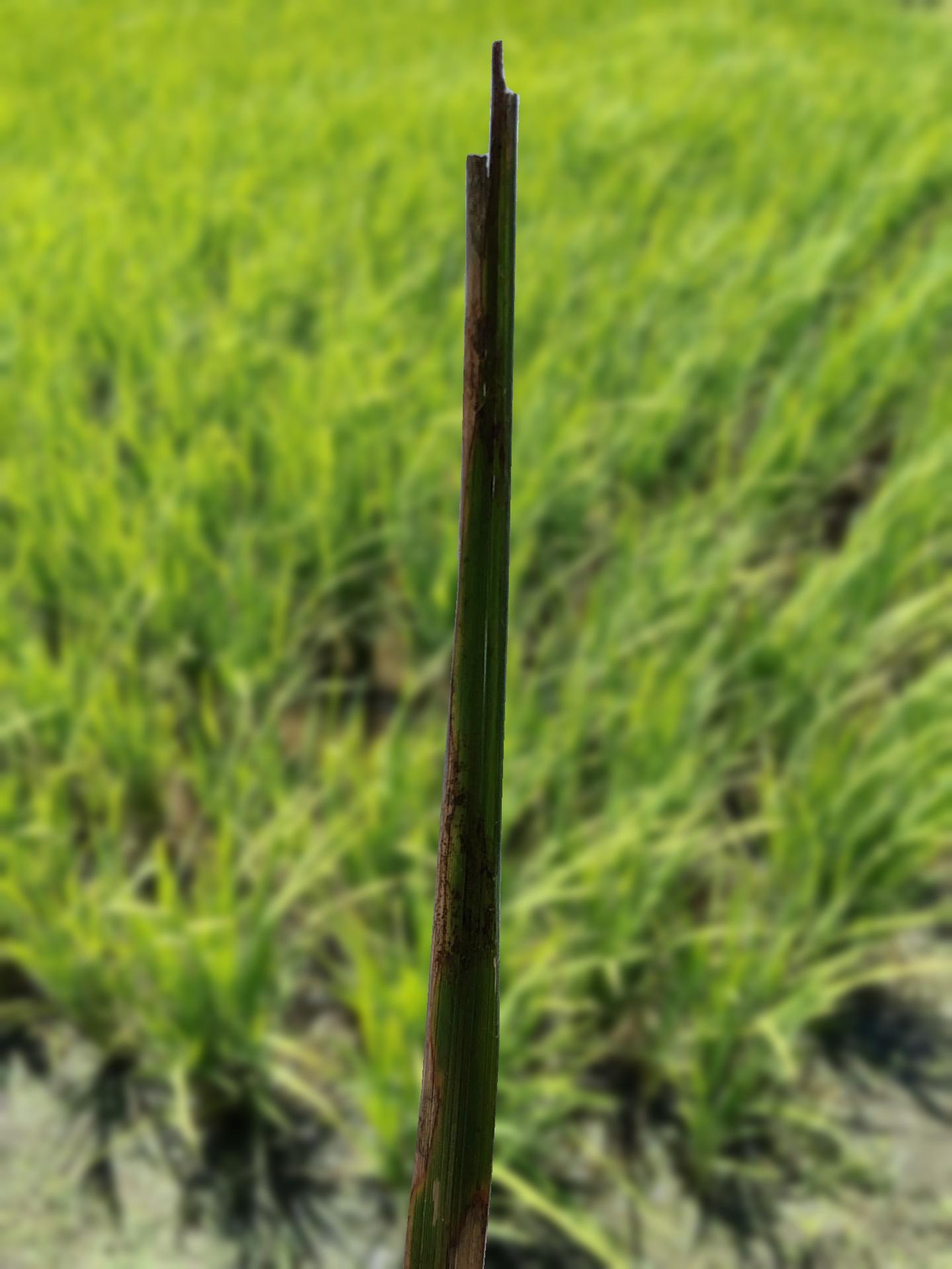BLB: (403, 559, 466, 1267), (457, 40, 519, 559)
LEAF: (403, 40, 517, 1268)
